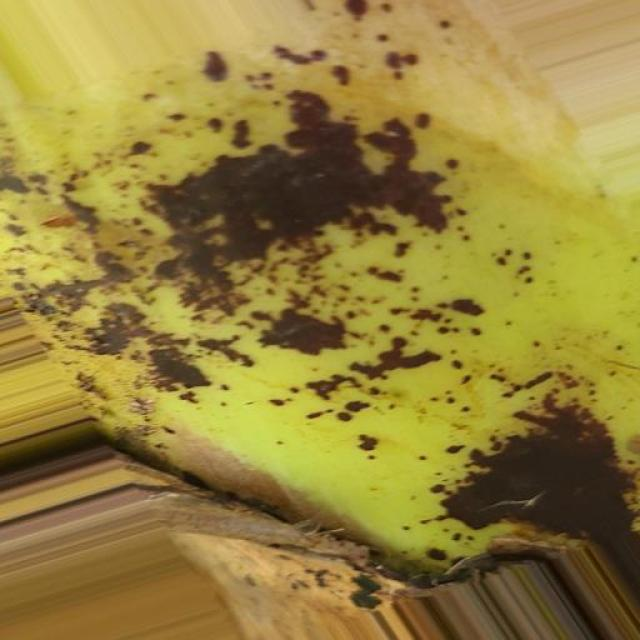Anthracnose: (4, 25, 640, 587)
